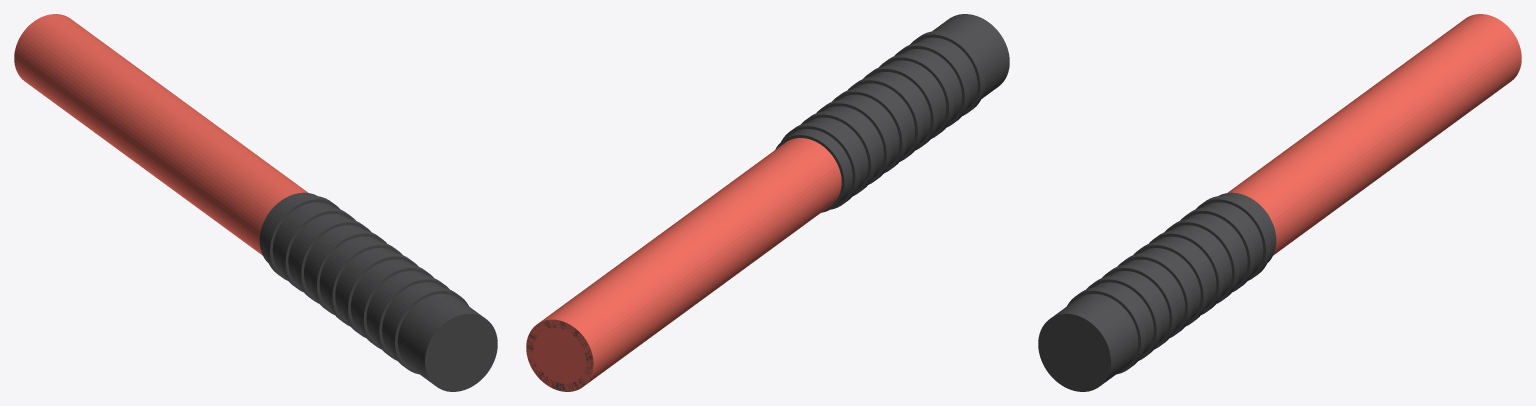
The picture shows the model from 3 angles, left to right: view 1: azimuth 30°, elevation 25°; view 2: azimuth 150°, elevation 25°; view 3: azimuth 330°, elevation 25°; orthographic projection.
Parts seen in each view (by area): view 1: px1e_body_0, px1e_body_1, px1e_body_11, px1e_body_5, px1e_body_7, px1e_body_3, px1e_body_4, px1e_body_9, px1e_body_8, px1e_body_10, px1e_body_6; view 2: px1e_body_0, px1e_body_1, px1e_body_3, px1e_body_5, px1e_body_8, px1e_body_7, px1e_body_4, px1e_body_6, px1e_body_10, px1e_body_9, px1e_body_11, px1e_body_2; view 3: px1e_body_0, px1e_body_1, px1e_body_11, px1e_body_5, px1e_body_7, px1e_body_3, px1e_body_4, px1e_body_9, px1e_body_8, px1e_body_10, px1e_body_6.
Part boxes in pixels (x1,y1,x2,y2): px1e_body_0: (14,14,308,255); px1e_body_1: (259,192,497,391); px1e_body_11: (390,287,468,374); px1e_body_5: (296,218,371,303); px1e_body_7: (327,241,402,326); px1e_body_3: (265,196,340,280); px1e_body_4: (280,207,355,292); px1e_body_9: (359,264,433,349); px1e_body_8: (343,253,418,337); px1e_body_10: (374,276,449,360); px1e_body_6: (312,230,386,314); px1e_body_0: (526,138,841,391); px1e_body_1: (775,14,1009,212); px1e_body_3: (781,122,860,209); px1e_body_5: (816,99,891,184); px1e_body_8: (863,65,938,150); px1e_body_7: (848,77,922,161); px1e_body_4: (801,111,875,195); px1e_body_6: (832,88,906,172); px1e_body_10: (894,42,969,127); px1e_body_9: (879,54,953,138); px1e_body_11: (910,31,985,115); px1e_body_2: (526,320,593,391); px1e_body_0: (1227,14,1521,255); px1e_body_1: (1038,192,1276,391); px1e_body_11: (1067,287,1145,374); px1e_body_5: (1164,218,1239,303); px1e_body_7: (1133,241,1208,326); px1e_body_3: (1195,196,1270,280); px1e_body_4: (1180,207,1255,292); px1e_body_9: (1102,264,1176,349); px1e_body_8: (1117,253,1192,337); px1e_body_10: (1086,276,1161,360); px1e_body_6: (1149,230,1223,314).
Size of the model in its own units: 0.0371 by 0.0371 by 0.34.
